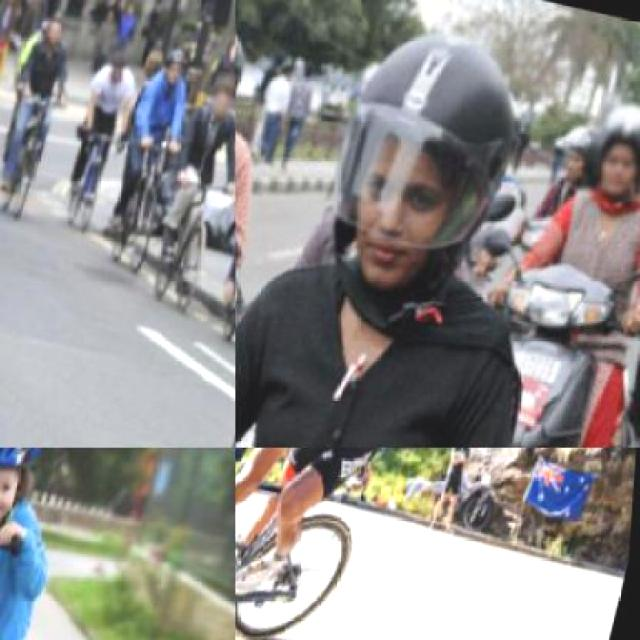With Helmet: (302, 0, 542, 311), (578, 83, 638, 203), (0, 448, 62, 524), (235, 15, 257, 123), (159, 41, 192, 81), (105, 43, 132, 85)
Without Helmet: (208, 66, 234, 117), (41, 10, 68, 53)
